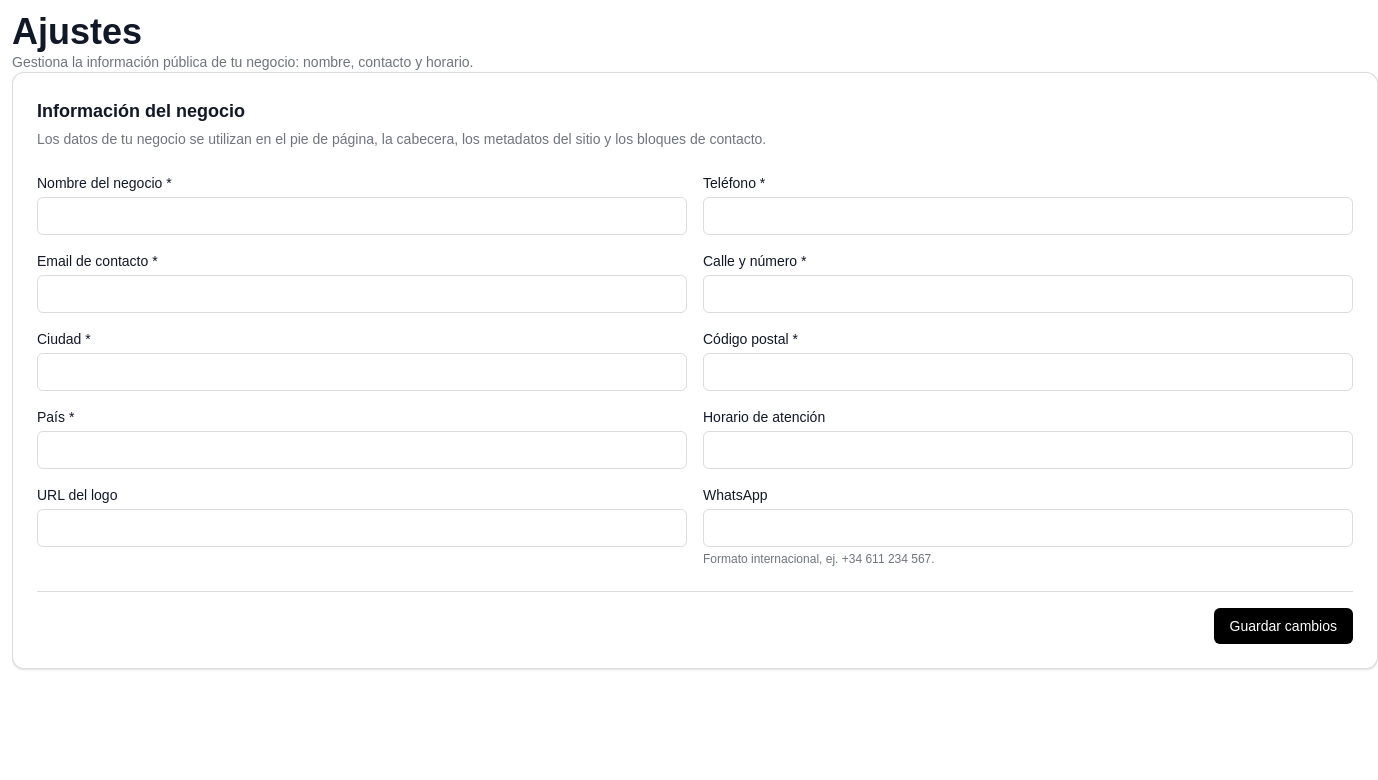
Test: AdminCompanyProfileForm › save flow › shows a save error when the PUT request fails
Check: the heading "Información del negocio" is shown, box [37,101,245,121]
Type "Acme Spa" into the field labelled "Nombre del negocio *" at (362, 216), box [37,197,687,235]
Type "+34 600 111 222" into the field labelled "Teléfono *" at (1028, 216), box [703,197,1353,235]
Type "hello@acme.test" into the field labelled "Email de contacto *" at (362, 294), box [37,275,687,313]
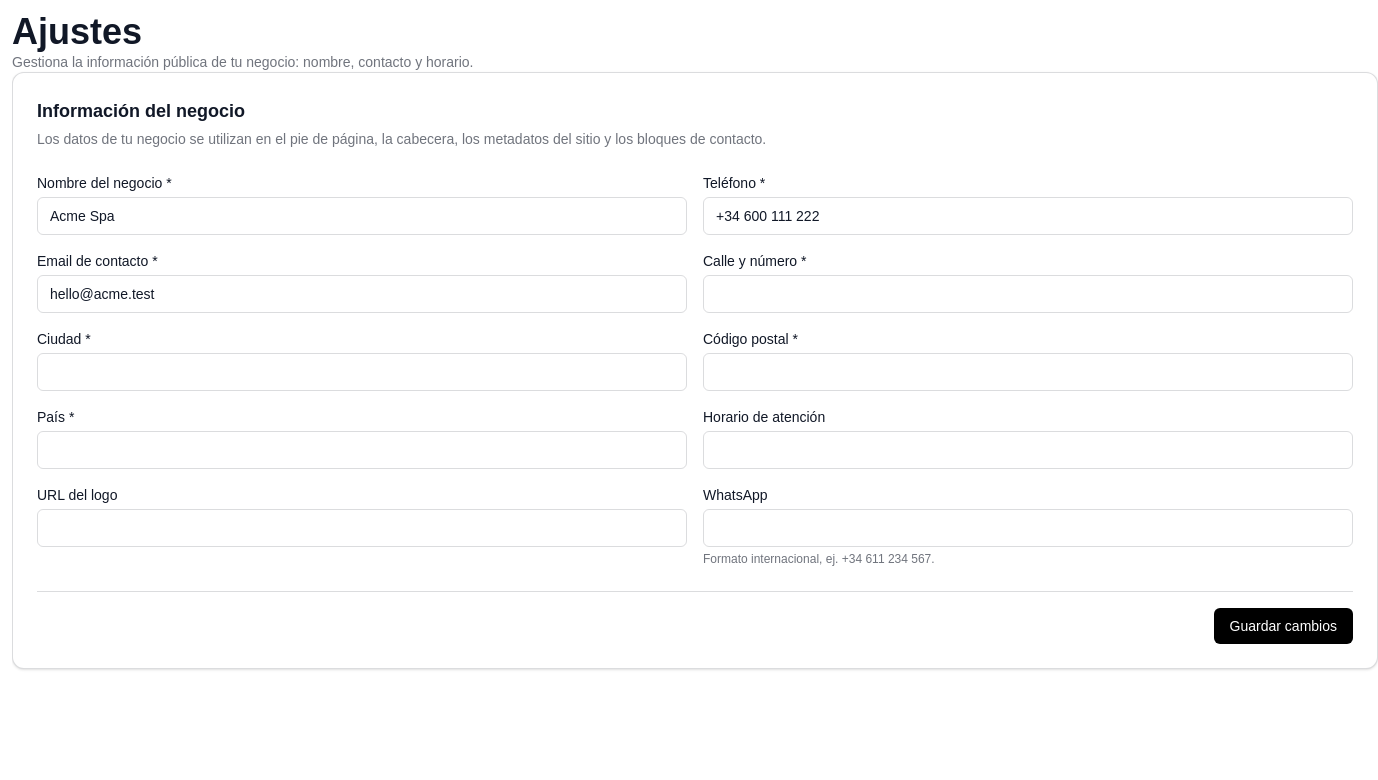
Type "Calle Mayor 1" into the field labelled "Calle y número *" at (1028, 294), box [703,275,1353,313]
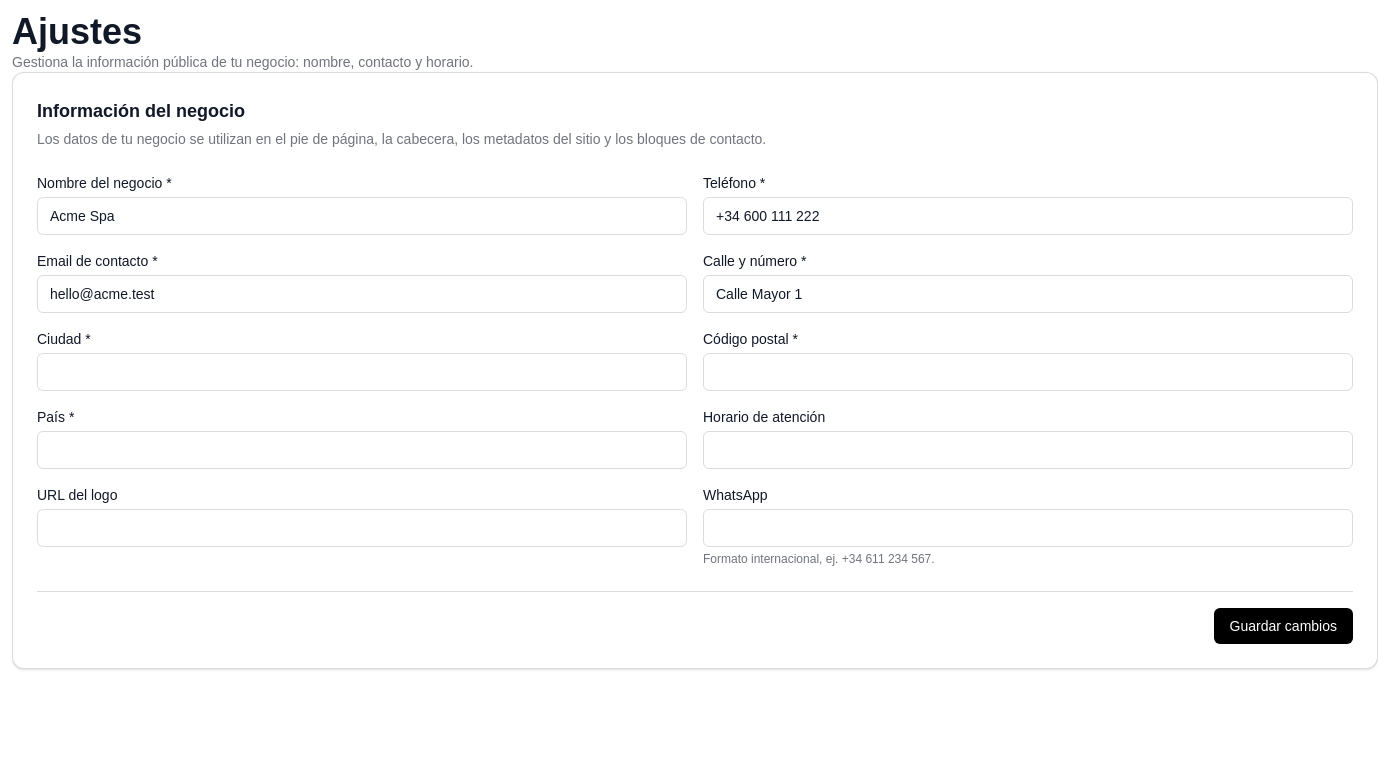
Type "Madrid" into the field labelled "Ciudad *" at (362, 372), box [37,353,687,391]
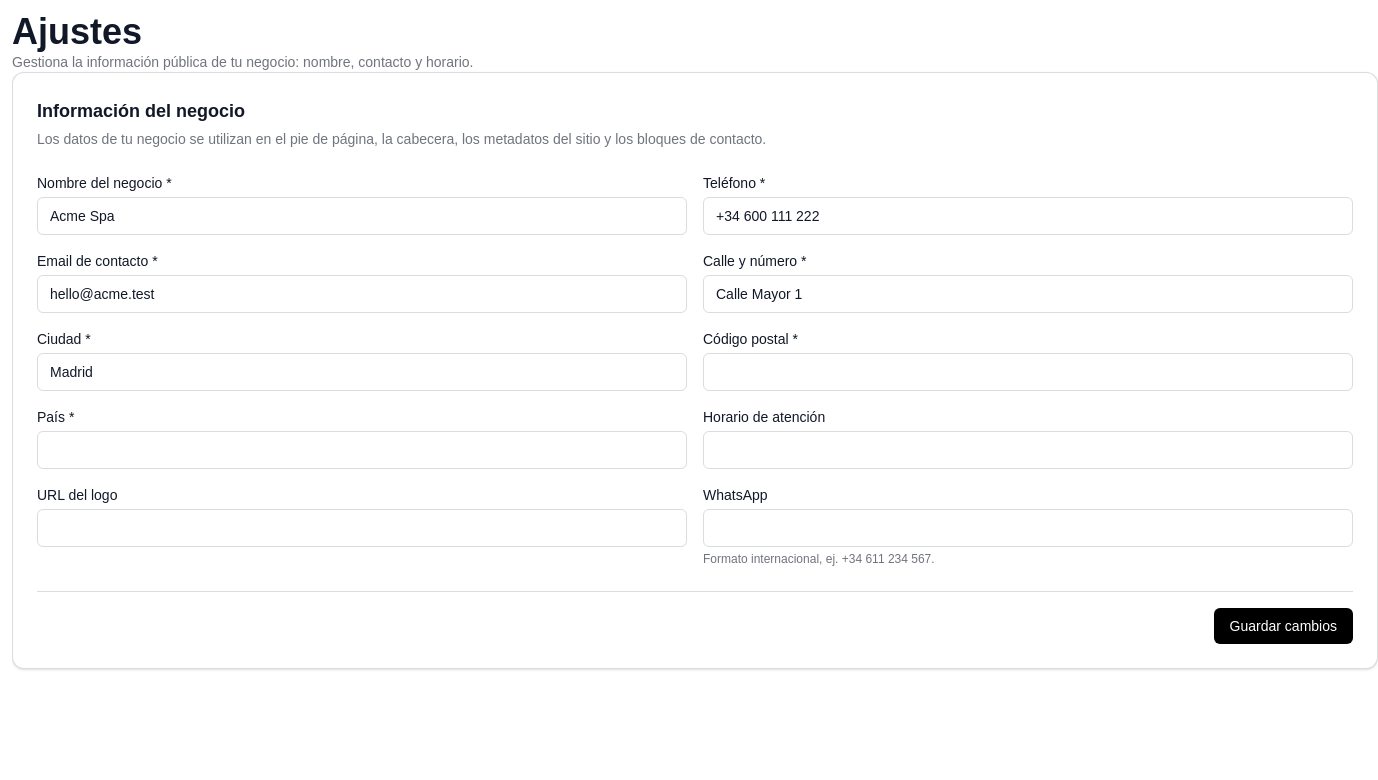
Type "28001" into the field labelled "Código postal *" at (1028, 372), box [703,353,1353,391]
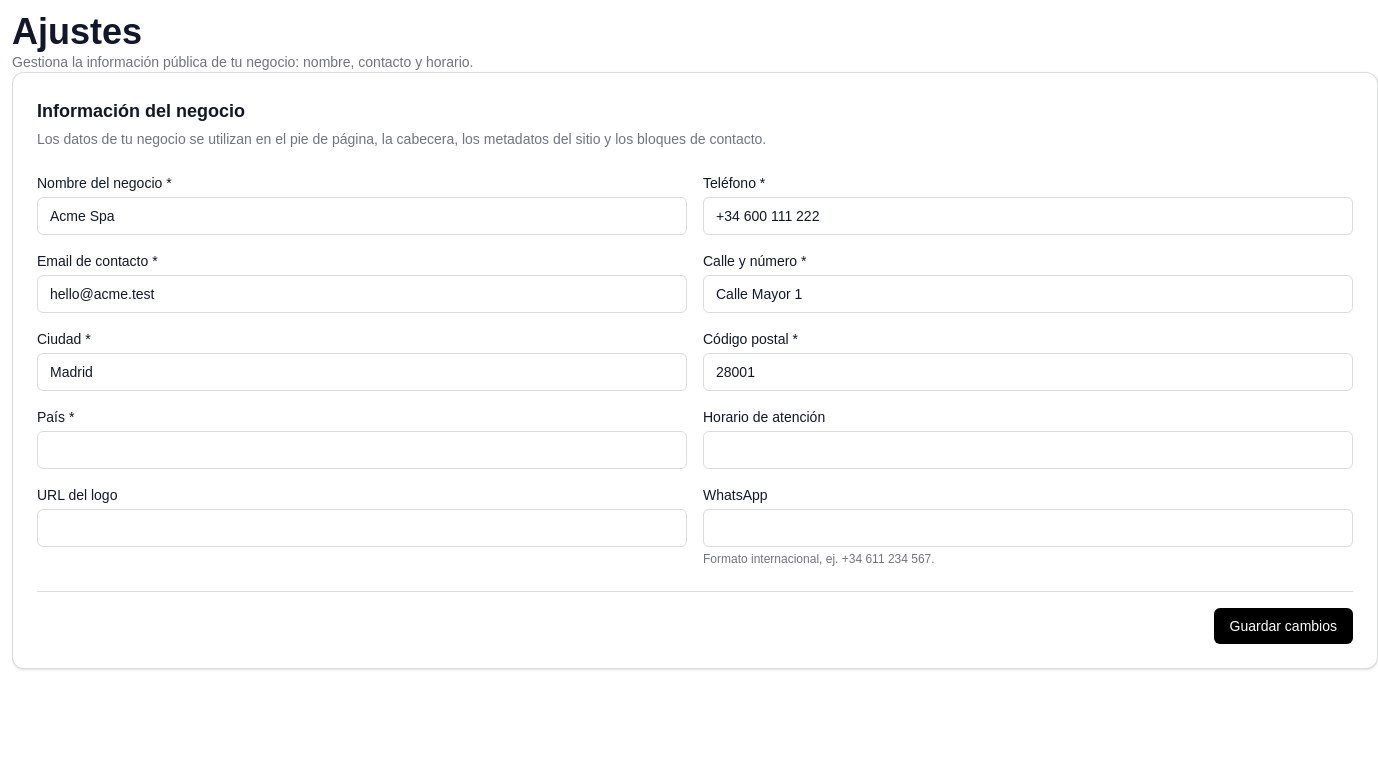
Type "España" into the field labelled "País *" at (362, 450), box [37,431,687,469]
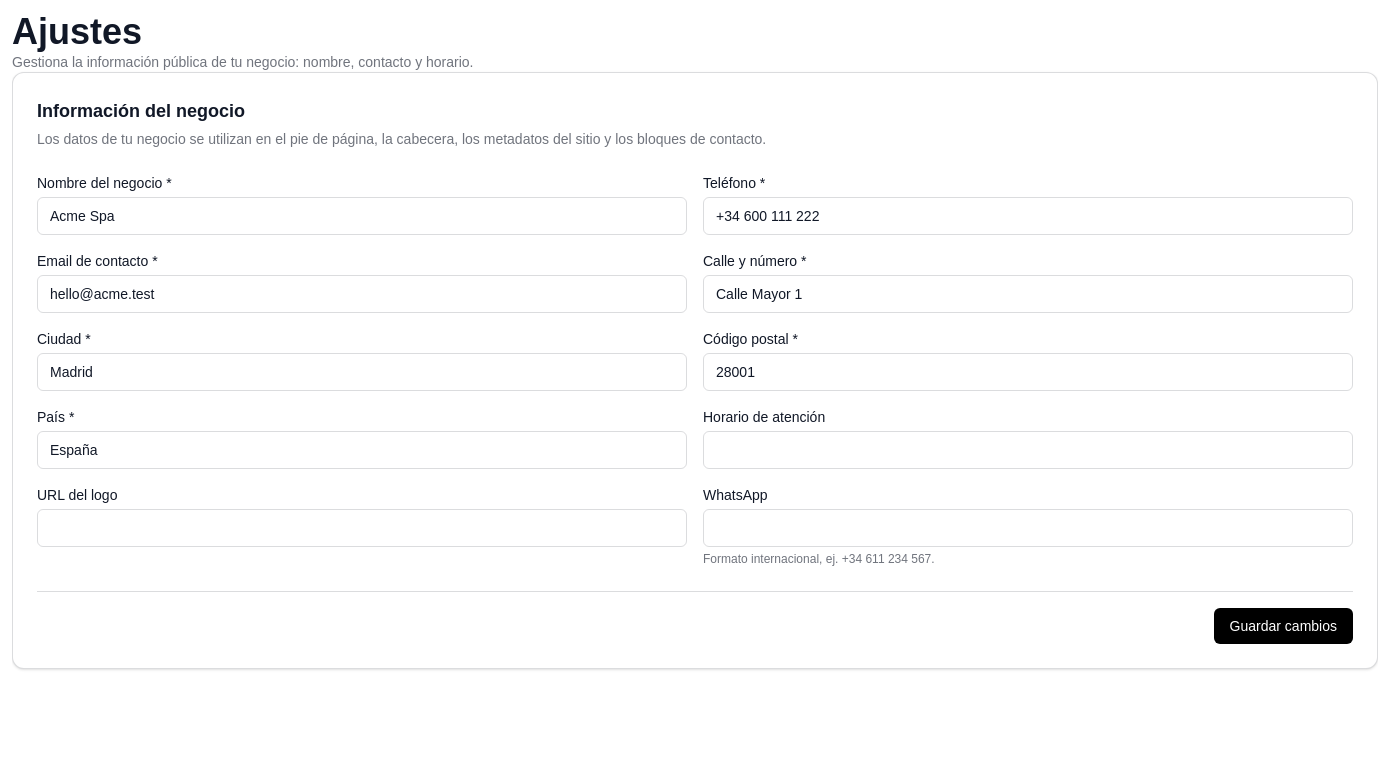
Click the button "Guardar cambios" at (1283, 626), box [1214,608,1353,644]
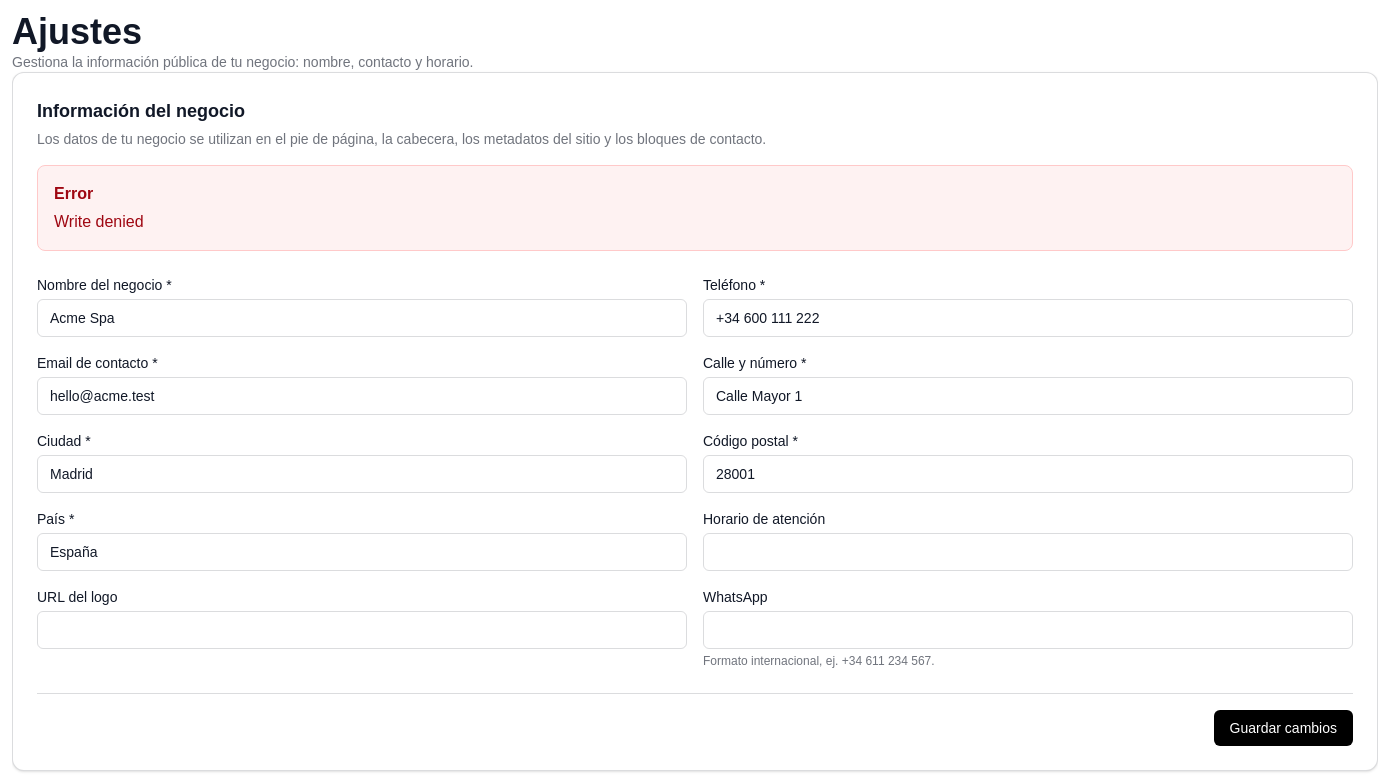
Check: the text "Write denied" is shown, box [54,213,144,230]
